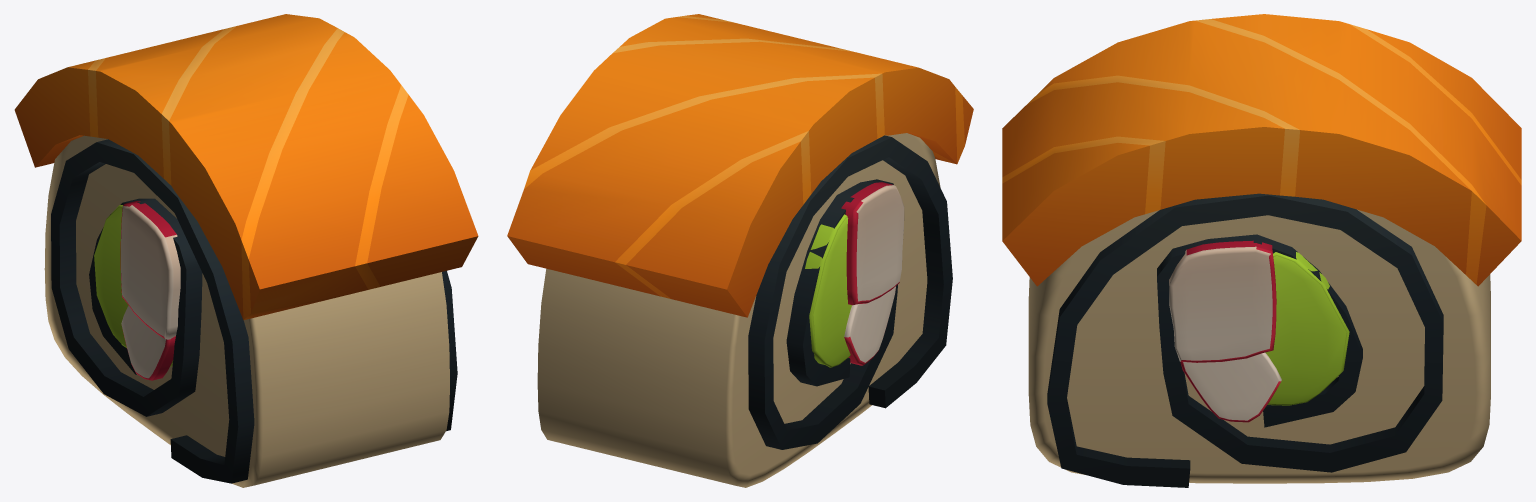
File: sushi_orange.fbx
3 views of the same model, side by side, from view 1: azimuth 30°, elevation 25°; view 2: azimuth 150°, elevation 25°; view 3: azimuth 270°, elevation 25° (orthographic). The views are drawn at different scales.
Parts seen in each view (by area): view 1: sushi_orange; view 2: sushi_orange; view 3: sushi_orange.
Part boxes in pixels (x1,y1,x2,y2): sushi_orange: (14, 14, 478, 487); sushi_orange: (507, 14, 973, 487); sushi_orange: (1002, 14, 1521, 487).
Size of the model in its own units: 1.11 by 1.52 by 1.96.
